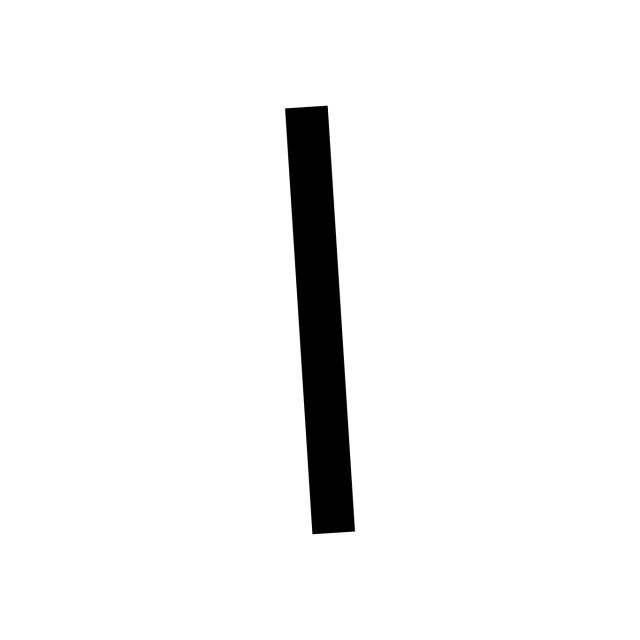line: (285, 106, 355, 534)
